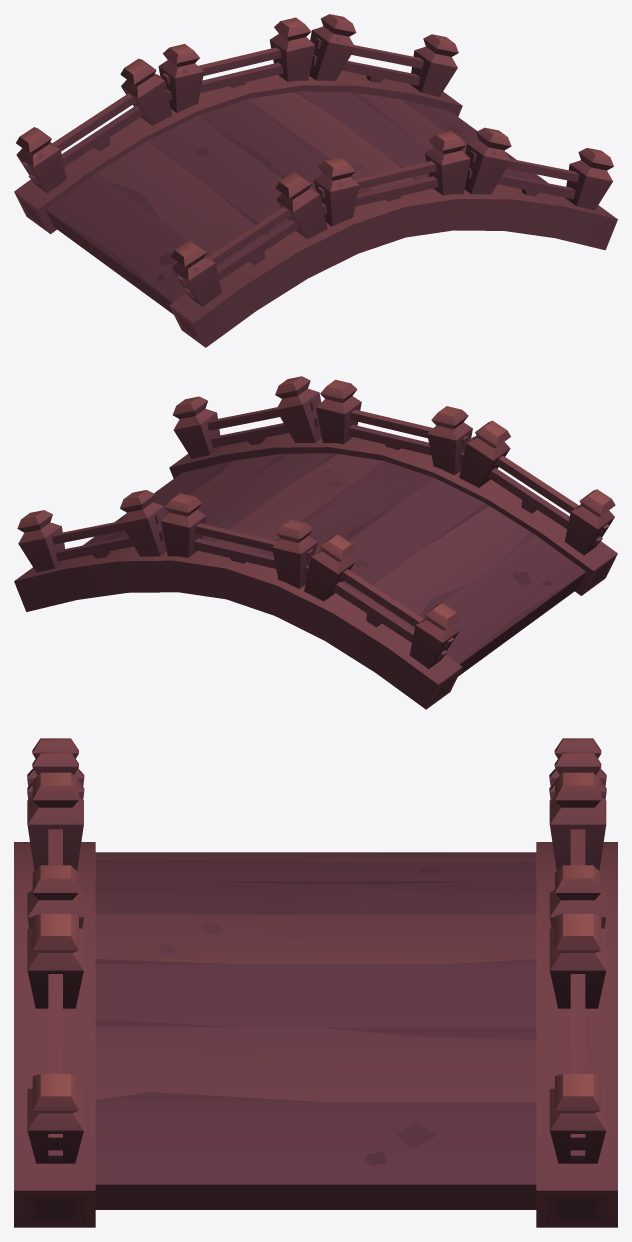
The model's file is bridge.glb.
3 renders of one model, top to bottom at view 1: azimuth 30°, elevation 25°; view 2: azimuth 150°, elevation 25°; view 3: azimuth 270°, elevation 25°, orthographic. The views are drawn at different scales.
Visible parts, largest first — view 1: bridge; view 2: bridge; view 3: bridge.
Part boxes in pixels (box(x1,y1,x2,y2)): bridge: box(14, 14, 617, 347); bridge: box(14, 376, 617, 709); bridge: box(14, 738, 617, 1227).
Bounding box in the file's own units: 6.73 × 2.12 × 4.87.
Materials: 1 (1 with a texture image).
